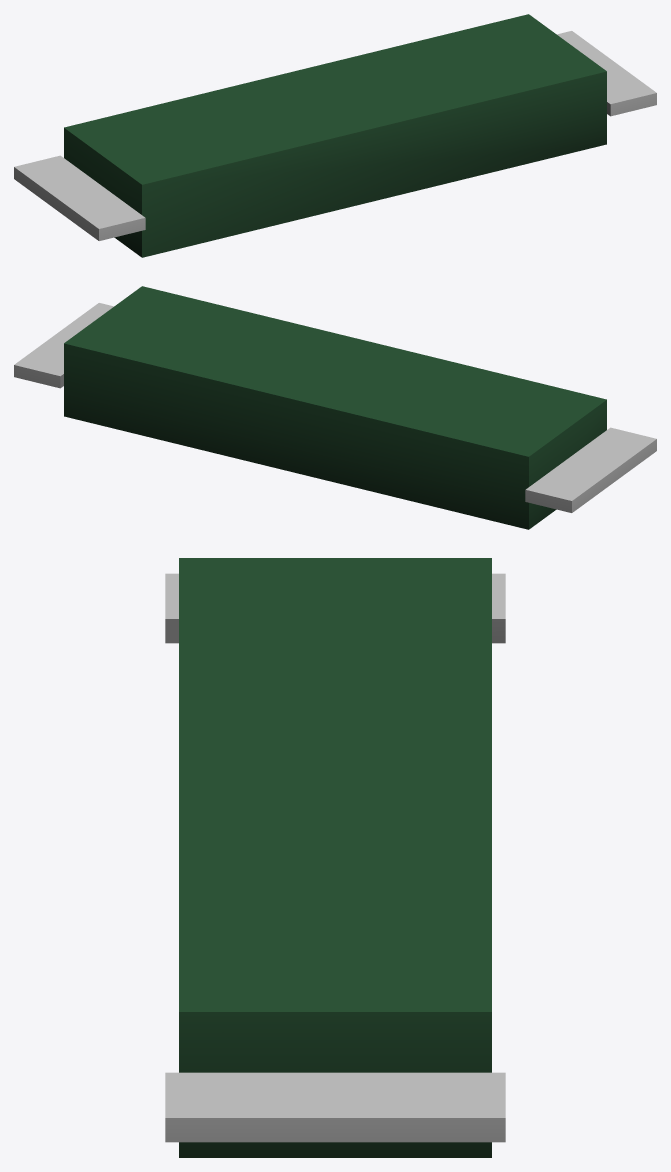
Rendered from barrita.glb.
The picture shows the model from 3 angles, top to bottom: view 1: azimuth 30°, elevation 25°; view 2: azimuth 150°, elevation 25°; view 3: azimuth 270°, elevation 25°; orthographic projection. The views are drawn at different scales.
Visible parts, largest first — view 1: barrita; view 2: barrita; view 3: barrita.
Part boxes in pixels (box(x1,y1,x2,y2)): barrita: box(14, 14, 656, 257); barrita: box(14, 286, 656, 529); barrita: box(165, 558, 505, 1157).
Bounding box in the file's own units: 0.144 × 0.018 × 0.038.
